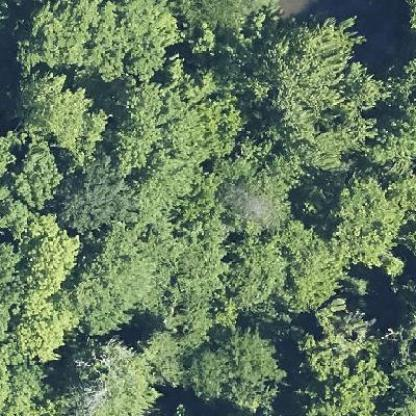tree-top: (311, 171, 414, 270), (295, 308, 390, 415), (191, 323, 289, 415), (18, 73, 108, 153), (51, 159, 143, 235), (71, 332, 155, 415), (14, 210, 81, 290), (7, 296, 67, 362)
